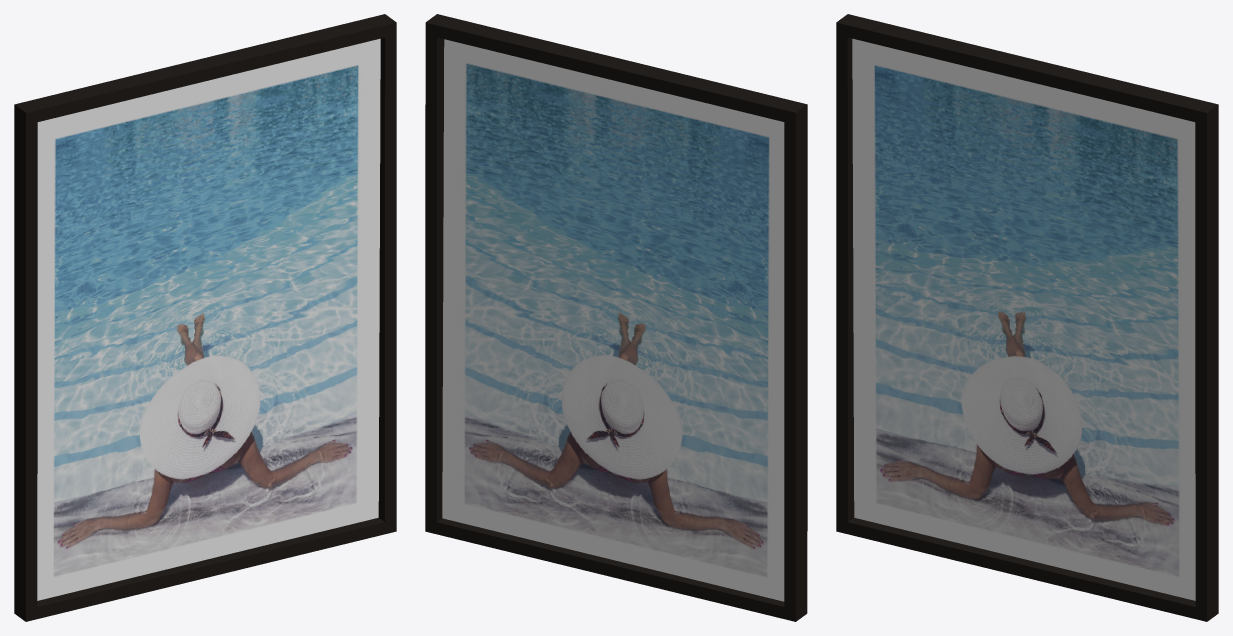
Rendered from P655149_i_min_pool_30x40_WEBB.glb.
3 views of the same model, side by side, from view 1: azimuth 30°, elevation 25°; view 2: azimuth 150°, elevation 25°; view 3: azimuth 330°, elevation 25° (orthographic).
Visible parts, largest first — view 1: P655208_vintervass_30x40_WEBB, Frame2; view 2: P655208_vintervass_30x40_WEBB, Frame2; view 3: P655208_vintervass_30x40_WEBB, Frame2.
Boxes of the visible parts, <box> form: P655208_vintervass_30x40_WEBB: <box>37,38,380,600</box>; Frame2: <box>14,14,396,621</box>; P655208_vintervass_30x40_WEBB: <box>442,39,784,601</box>; Frame2: <box>425,14,807,621</box>; P655208_vintervass_30x40_WEBB: <box>852,38,1195,600</box>; Frame2: <box>836,14,1218,621</box>.
Size of the model in its own units: 0.2576 by 0.3381 by 0.0143.
2 materials, 2 textured.
